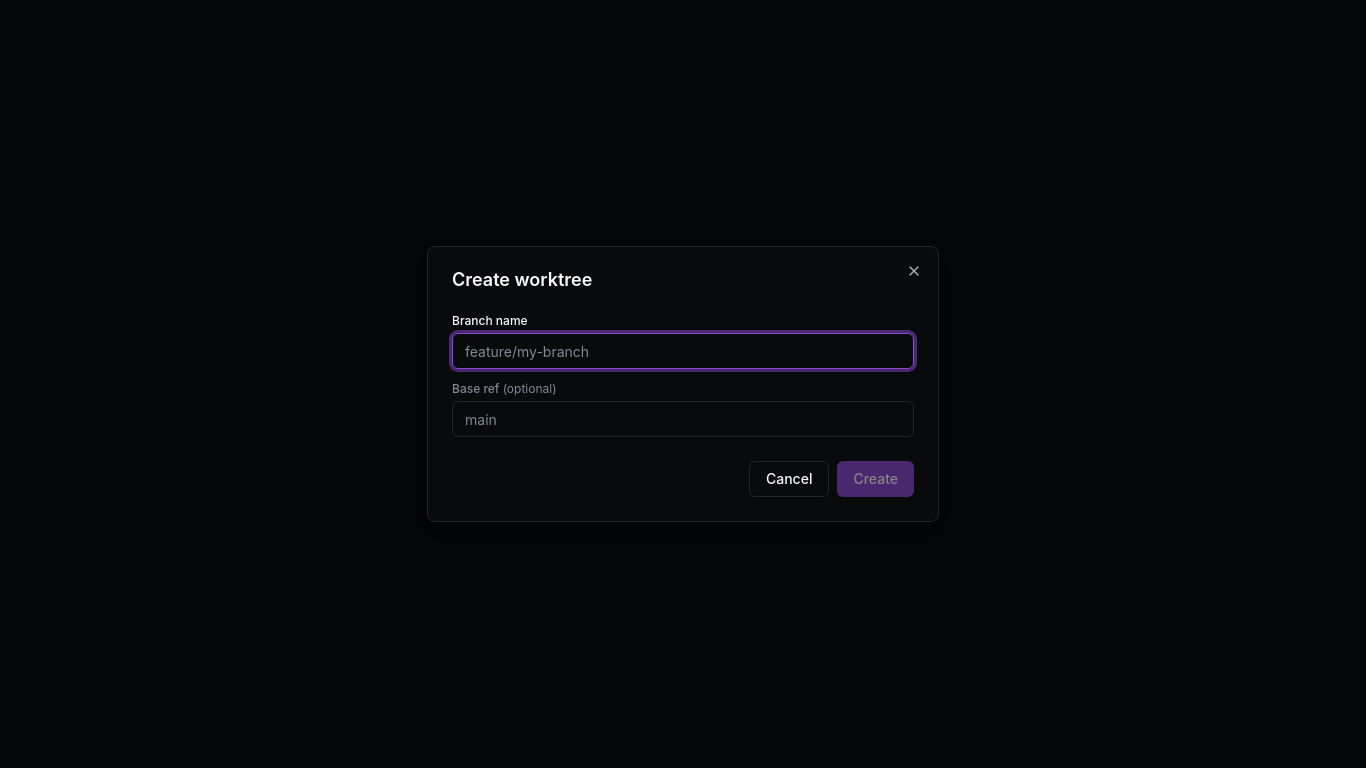
Test: CreateWorktreeModal — validation › submit is enabled when branch name is non-empty
Type "feature/test" into the field with test id "cwt-branch" at coordinates (683, 351), box [452,333,914,369]
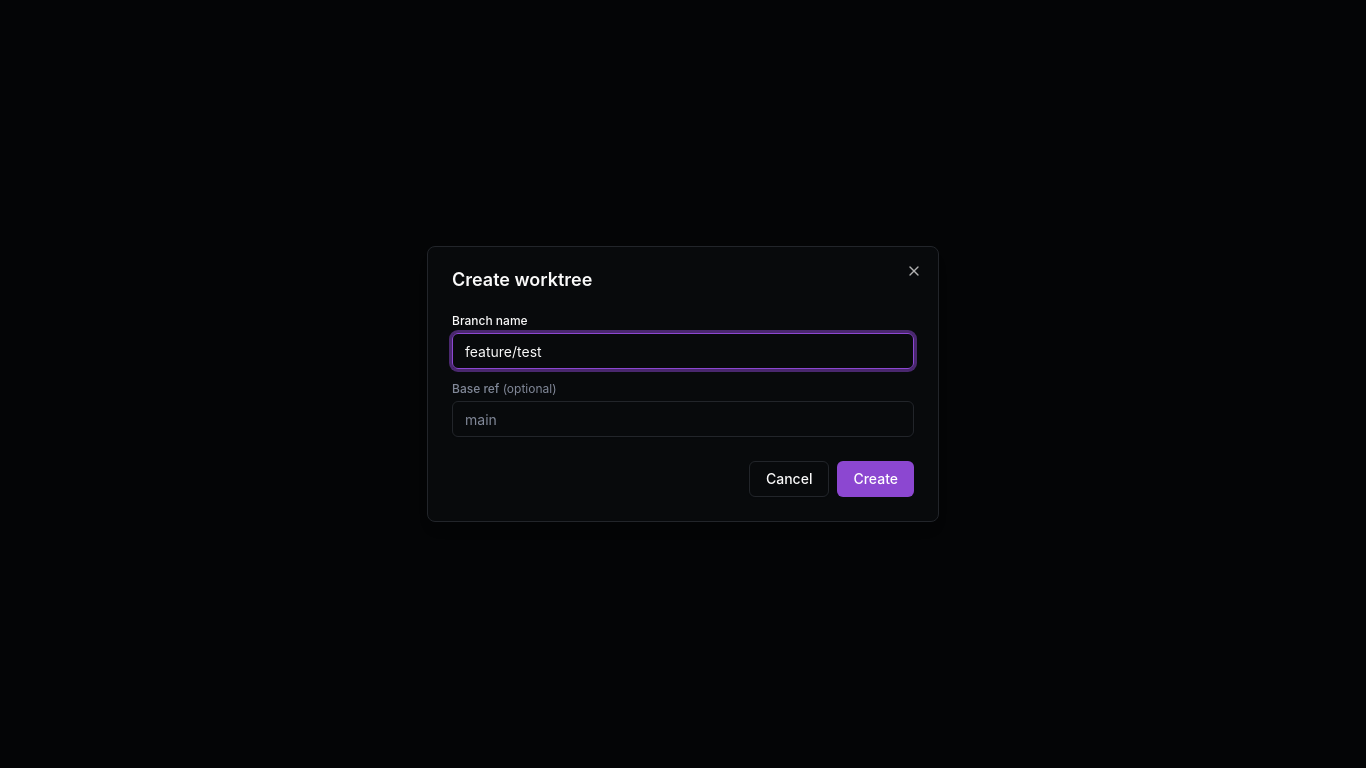
Now the button with test id "cwt-submit" is enabled, box [837,461,914,497]
